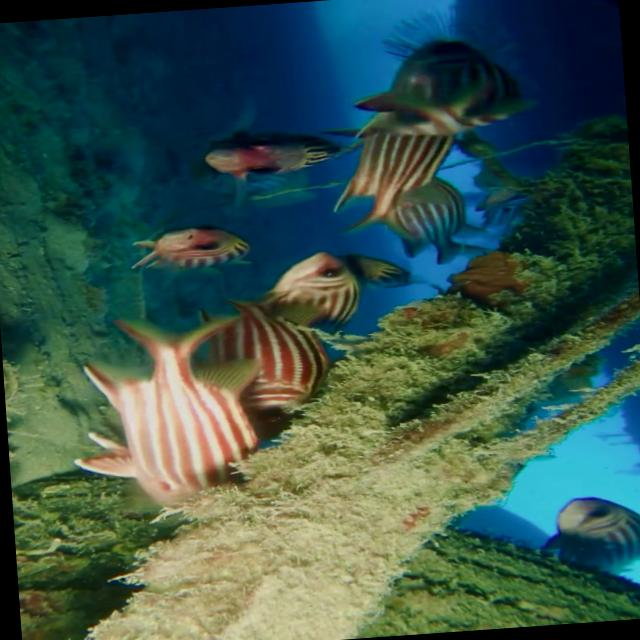Asker Baligi: (100, 322, 272, 532), (373, 19, 528, 154), (249, 242, 372, 352), (114, 204, 272, 289), (371, 172, 502, 257), (535, 490, 640, 574)
